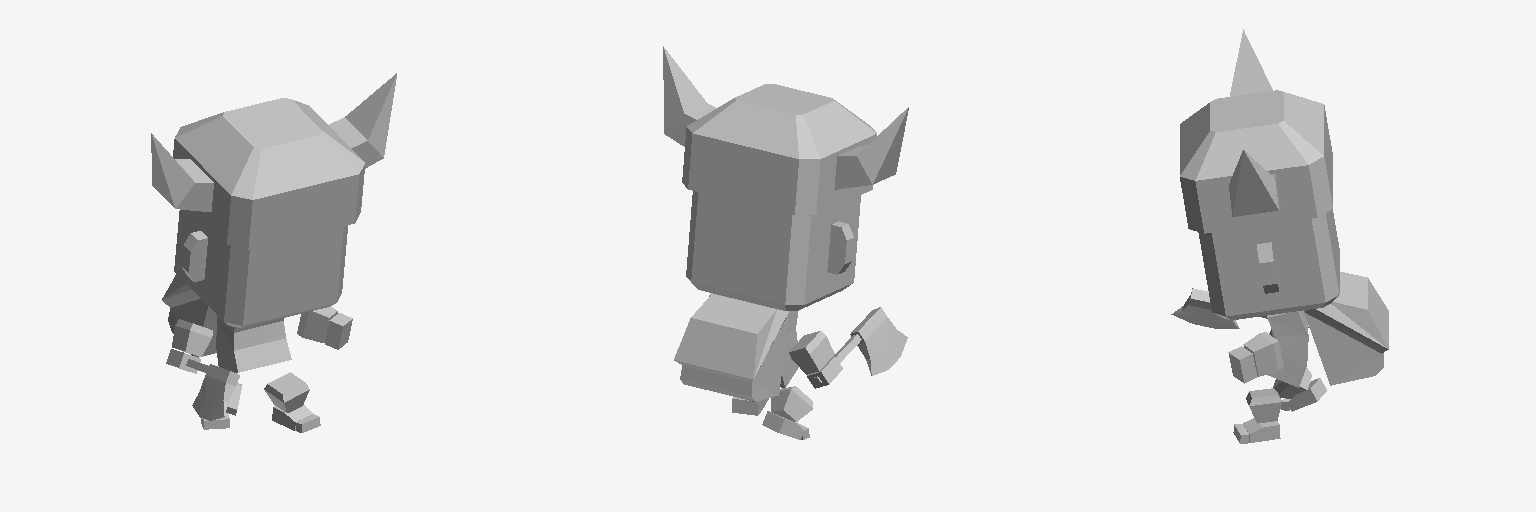
File: mini_knight_000009.obj
The picture shows the model from 3 angles: view 1: azimuth 30°, elevation 25°; view 2: azimuth 150°, elevation 25°; view 3: azimuth 270°, elevation 25°; orthographic projection.
Visible parts, largest first — view 1: cap_Object01_Material__3, Mesh_objheadusOBJexport_Material, back_Object03_Material__3, axe_Object02_Material__3; view 2: cap_Object01_Material__3, Mesh_objheadusOBJexport_Material, back_Object03_Material__3, axe_Object02_Material__3; view 3: cap_Object01_Material__3, Mesh_objheadusOBJexport_Material, back_Object03_Material__3, axe_Object02_Material__3.
Part boxes in pixels (x1,y1,x2,y2): cap_Object01_Material__3: (151, 73, 396, 249); Mesh_objheadusOBJexport_Material: (166, 210, 352, 432); back_Object03_Material__3: (162, 274, 217, 357); axe_Object02_Material__3: (186, 359, 239, 420); cap_Object01_Material__3: (663, 46, 908, 214); Mesh_objheadusOBJexport_Material: (686, 191, 860, 439); back_Object03_Material__3: (674, 293, 788, 401); axe_Object02_Material__3: (812, 307, 907, 384); cap_Object01_Material__3: (1180, 29, 1332, 233); Mesh_objheadusOBJexport_Material: (1198, 209, 1339, 443); back_Object03_Material__3: (1304, 272, 1388, 385); axe_Object02_Material__3: (1171, 288, 1267, 328).
Size of the model in its own units: 1.94 by 2.51 by 1.48.